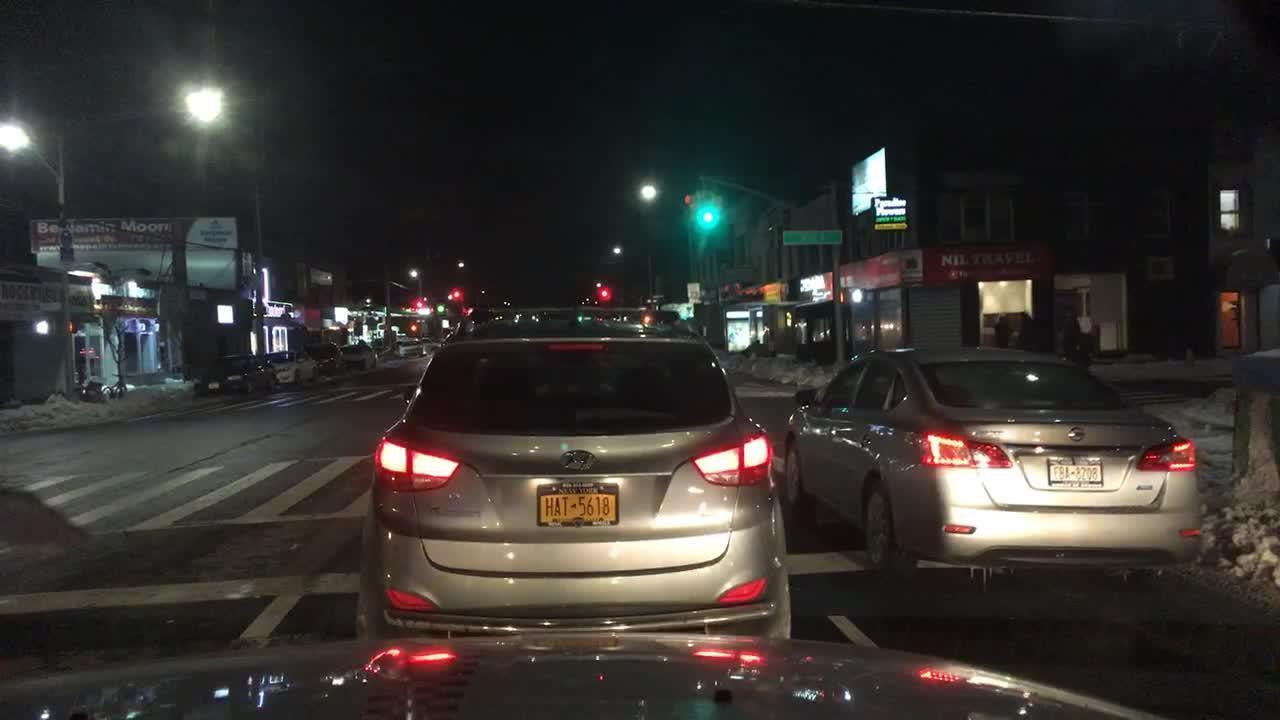Hyundai: (560, 447, 597, 474)
